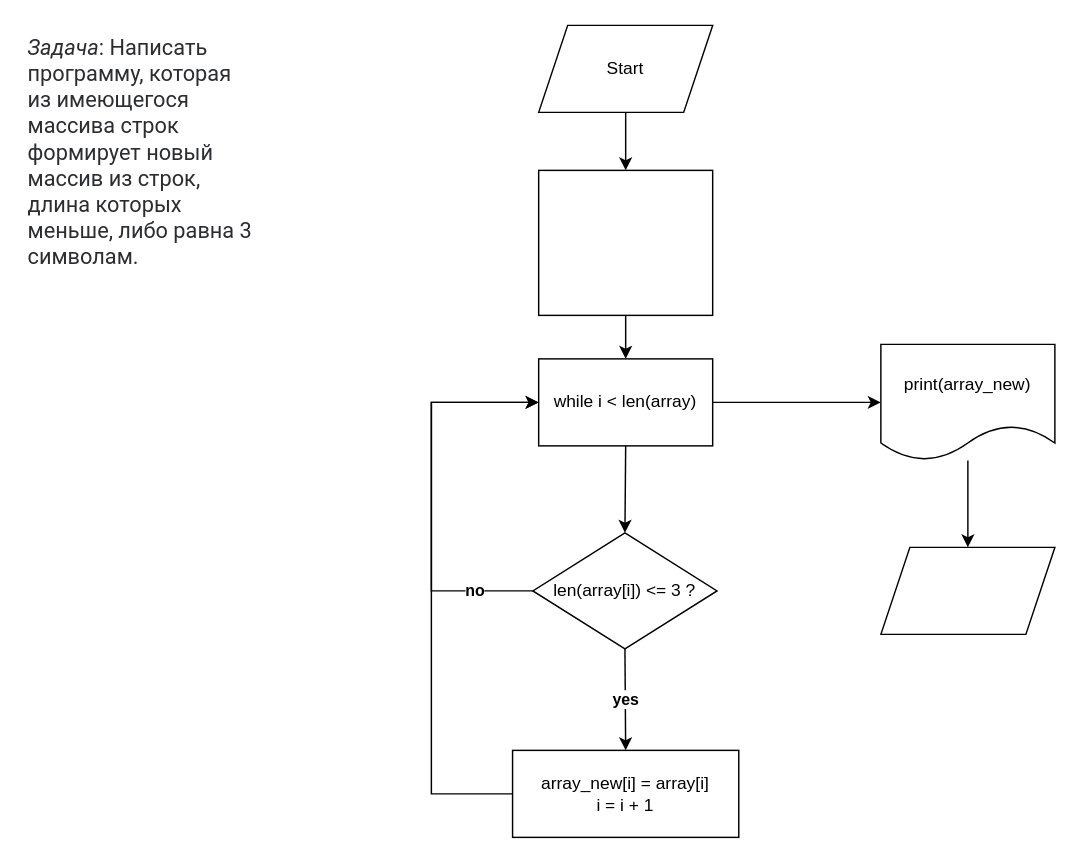
Image size: 1080x863. Some labels were removed from this diagram. Each missing label, with the centre of its shape:
array = [“1234”, “1567”, “-2”, “computer science”] i = 0 array_new = []: (x=625, y=242)
Finish: (x=967, y=590)
